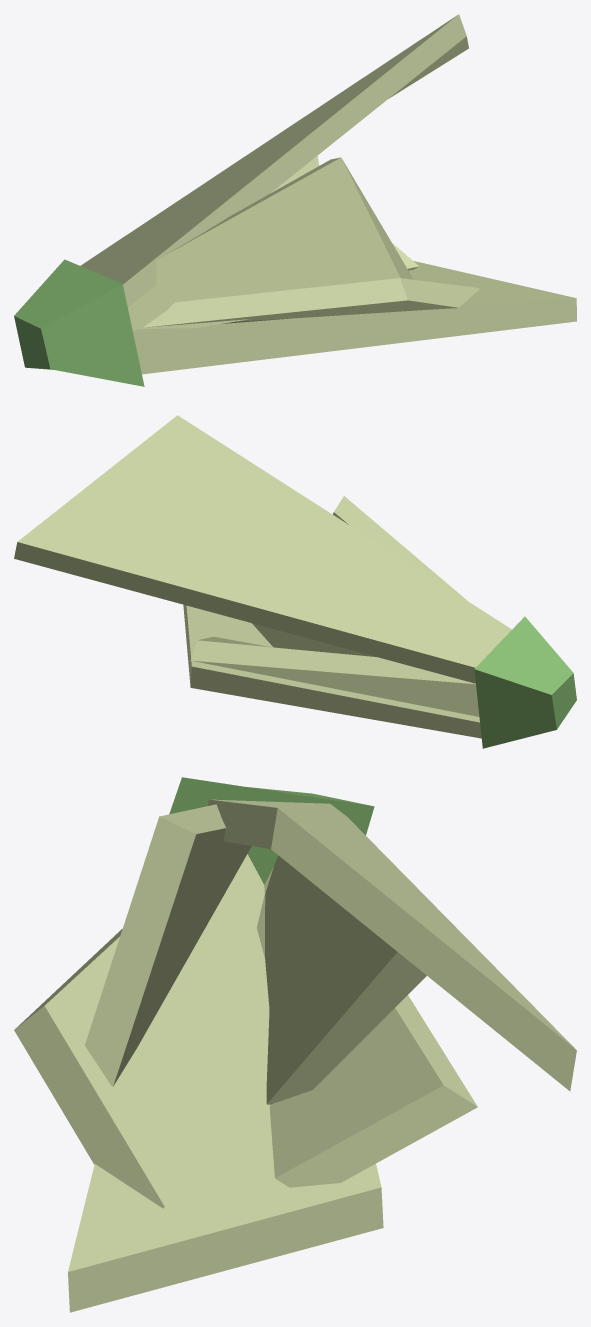
File: lettuce.fbx
The picture shows the model from 3 angles, top to bottom: view 1: azimuth 30°, elevation 25°; view 2: azimuth 150°, elevation 25°; view 3: azimuth 270°, elevation 25°; orthographic projection. The views are drawn at different scales.
Visible parts, largest first — view 1: lettuce; view 2: lettuce; view 3: lettuce.
Part boxes in pixels (box(x1,y1,x2,y2)): lettuce: box(14, 14, 576, 386); lettuce: box(14, 415, 576, 748); lettuce: box(14, 777, 576, 1312).
Size of the model in its own units: 24.17 by 12.17 by 13.27.
Materials: 1 (1 with a texture image).
